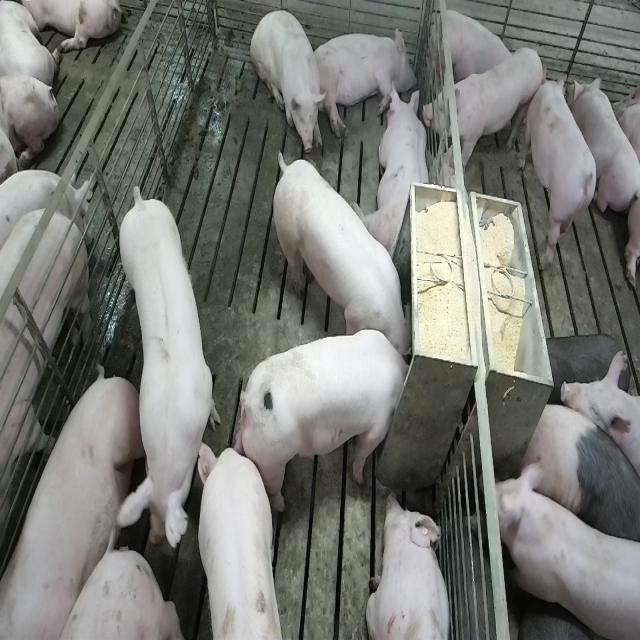Feeding: (243, 328, 420, 512), (268, 142, 411, 359)
Lateral_lying: (309, 23, 418, 140)
Sitting: (250, 7, 328, 157)
Standing: (0, 187, 93, 640), (114, 187, 220, 564), (493, 459, 638, 640), (520, 392, 639, 565), (200, 447, 288, 640), (421, 48, 546, 177), (524, 71, 598, 253)
Sternal_lying: (366, 490, 454, 640), (360, 83, 432, 264), (429, 5, 515, 92)
